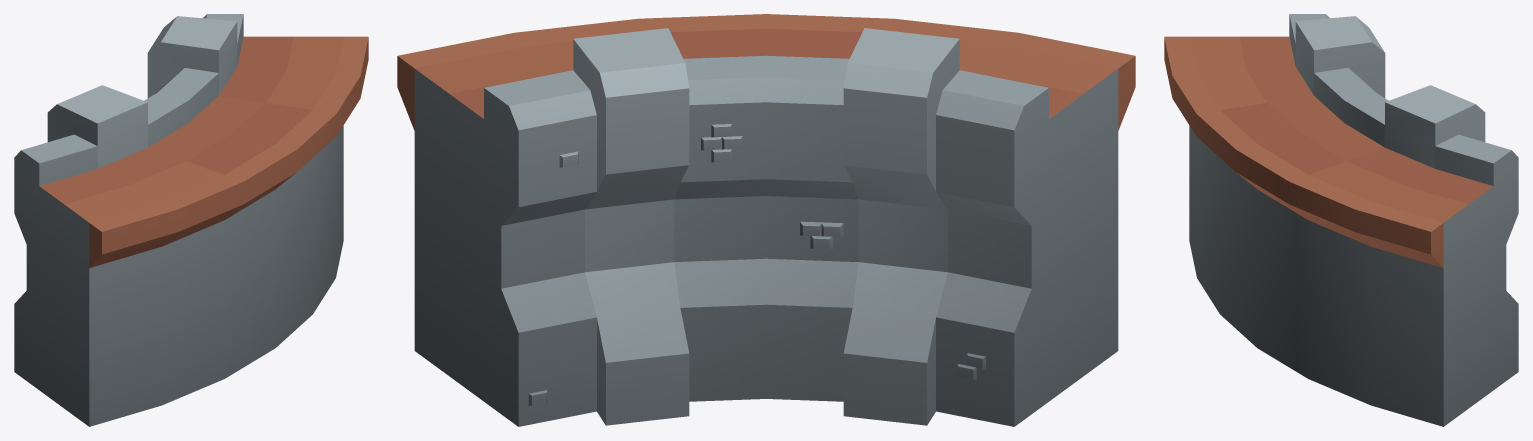
Rendered from wall_corner_A_inside.glb.
The picture shows the model from 3 angles, left to right: view 1: azimuth 30°, elevation 25°; view 2: azimuth 150°, elevation 25°; view 3: azimuth 270°, elevation 25°; orthographic projection. The views are drawn at different scales.
Visible parts, largest first — view 1: wall_corner_A_inside; view 2: wall_corner_A_inside; view 3: wall_corner_A_inside.
Boxes of the visible parts, box(x1,y1,x2,y2) form: wall_corner_A_inside: box(14, 14, 368, 426); wall_corner_A_inside: box(397, 14, 1135, 426); wall_corner_A_inside: box(1164, 14, 1518, 426).
Bounding box in the file's own units: 1.85 × 1.1 × 1.42.
Materials: 1 (1 with a texture image).
